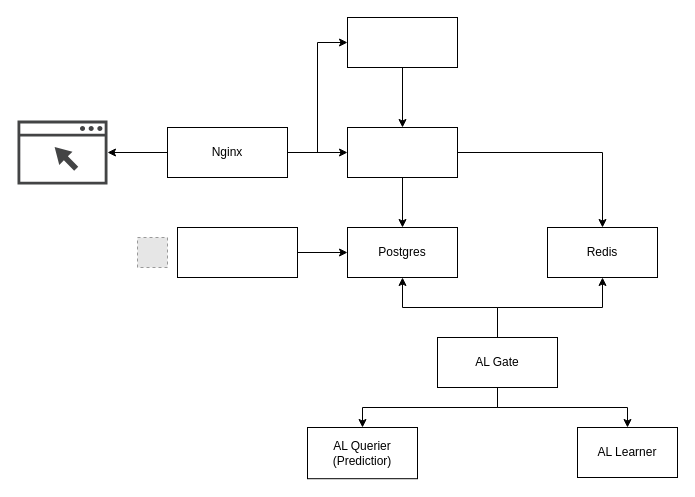
The diagram is 695 pixels wide and 497 high, and some of its shapes have lost their labels. Grey dashed boxes stand in for pictures. Here are the shapes that lost their labels. From the top down, the centre of each, then its label:
pixel 402 42: Frontend
pixel 402 152: Server
pixel 237 252: PG Backup
